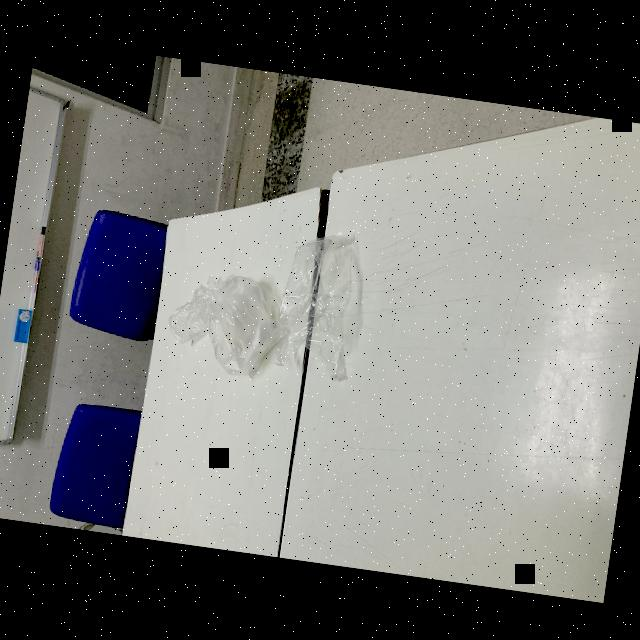plastic_bag: (266, 218, 373, 386), (200, 256, 292, 383), (156, 268, 222, 346)
